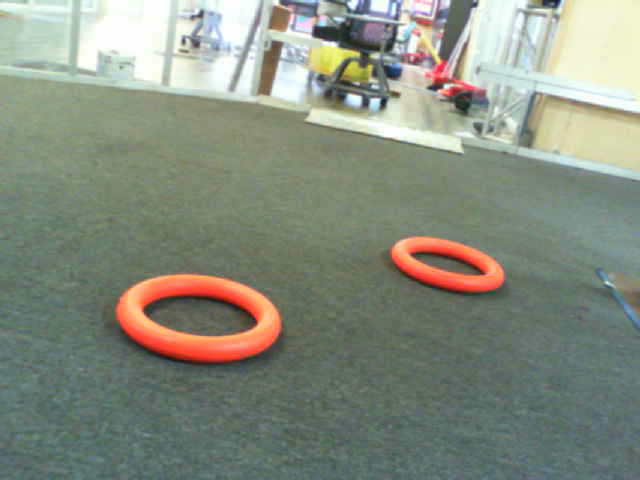Note: (118, 275, 288, 369), (396, 240, 510, 302)
